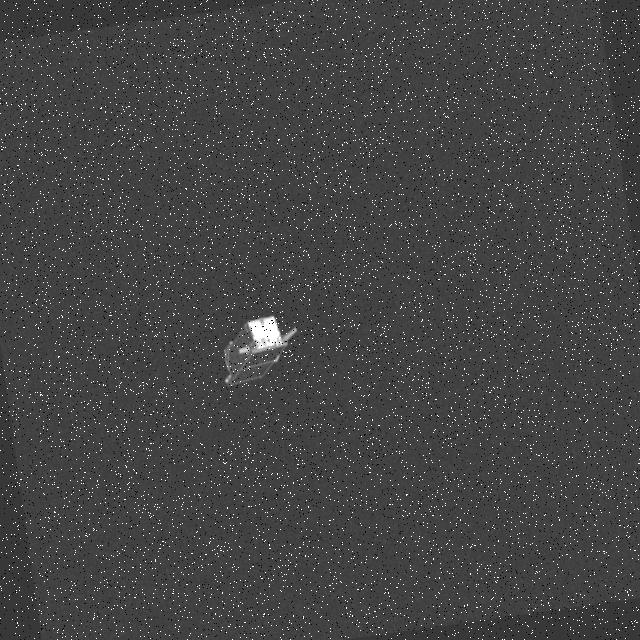satellite: (206, 308, 296, 400)
